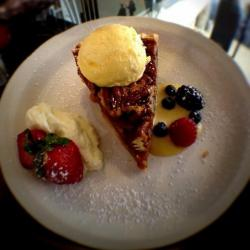apple_pie: (68, 33, 167, 170)
icecream: (75, 21, 148, 90)
